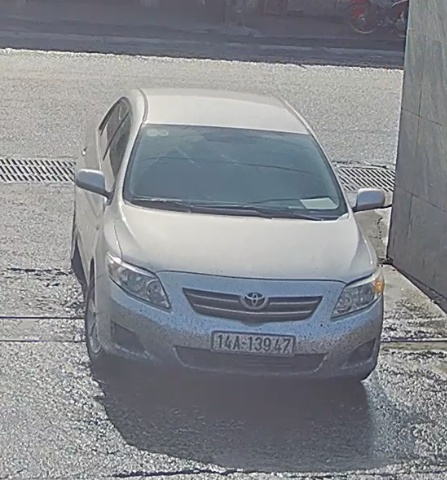vehicle plate: (206, 327, 301, 360)
